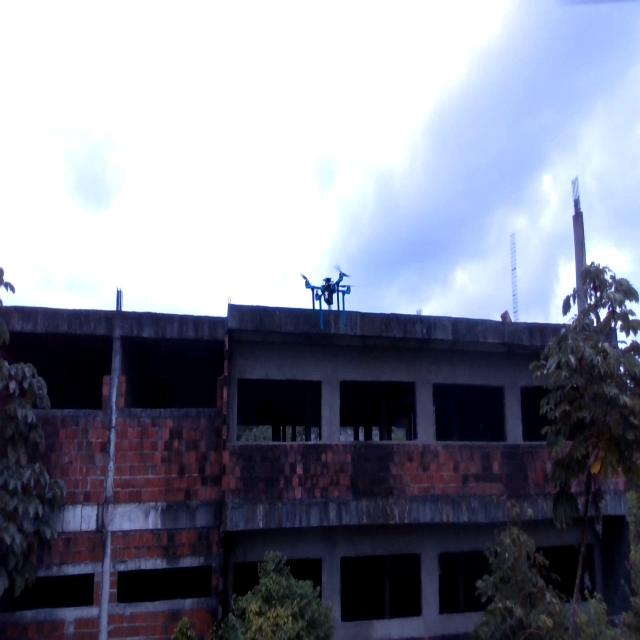-uav-: (292, 240, 366, 351)
